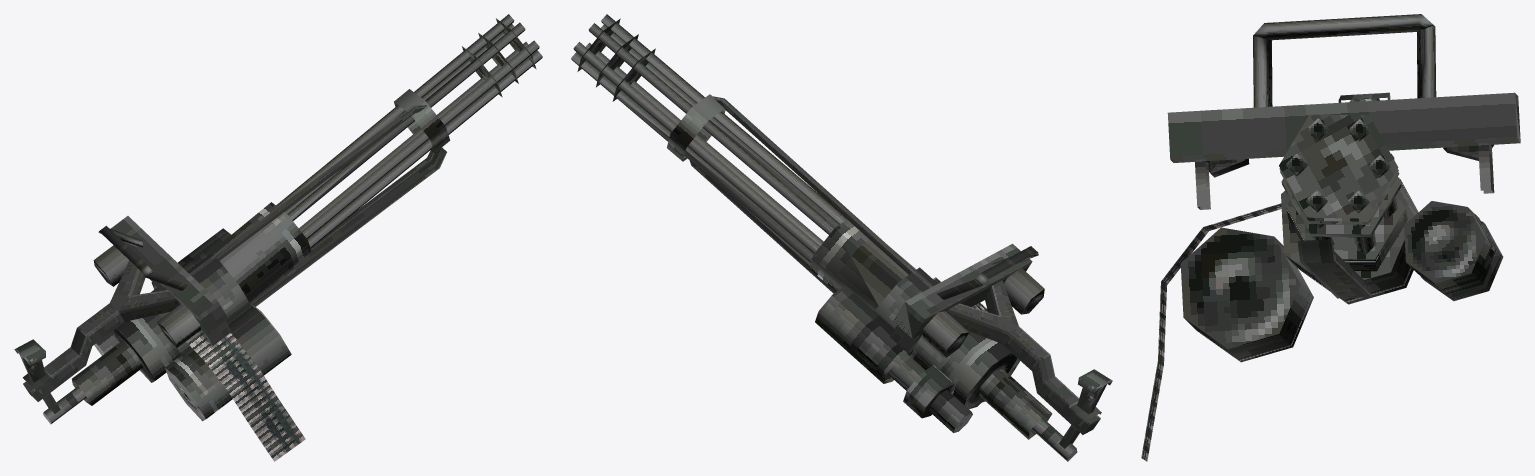
The model's file is Minigun.fbx.
3 renders of one model, left to right at view 1: azimuth 30°, elevation 25°; view 2: azimuth 150°, elevation 25°; view 3: azimuth 270°, elevation 25°, orthographic. The views are drawn at different scales.
Parts seen in each view (by area): view 1: minigun, minigun2; view 2: minigun, minigun2; view 3: minigun, minigun2.
Boxes of the visible parts, left/top/right/bottom form: minigun: left=14, top=104, right=446, bottom=461; minigun2: left=210, top=14, right=542, bottom=303; minigun: left=689, top=96, right=1112, bottom=461; minigun2: left=571, top=14, right=916, bottom=311; minigun: left=1141, top=14, right=1520, bottom=461; minigun2: left=1279, top=114, right=1407, bottom=271.
Bounding box in the file's own units: 114 × 71.51 × 40.85.
Materials: 3 (3 with a texture image).
